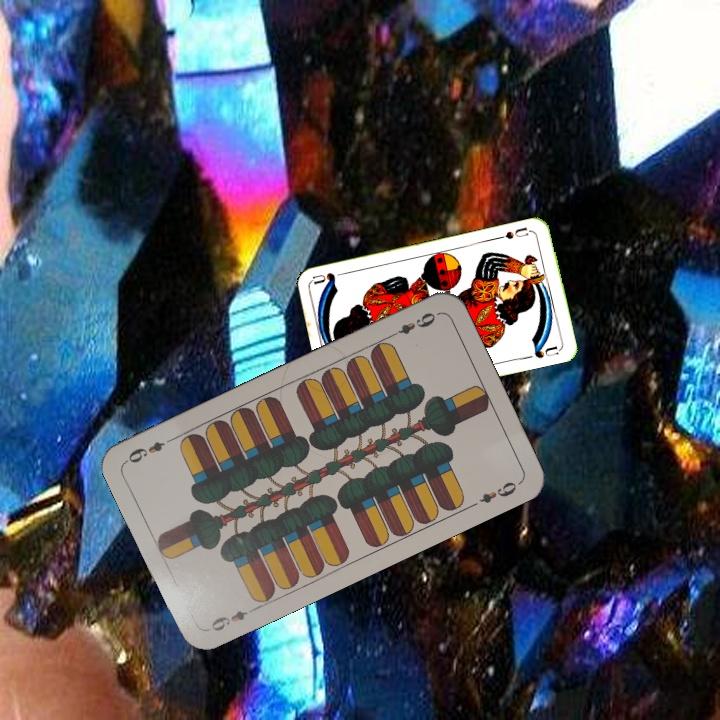E9: (385, 308, 441, 341), (207, 603, 259, 634)
SU: (495, 223, 535, 242)
